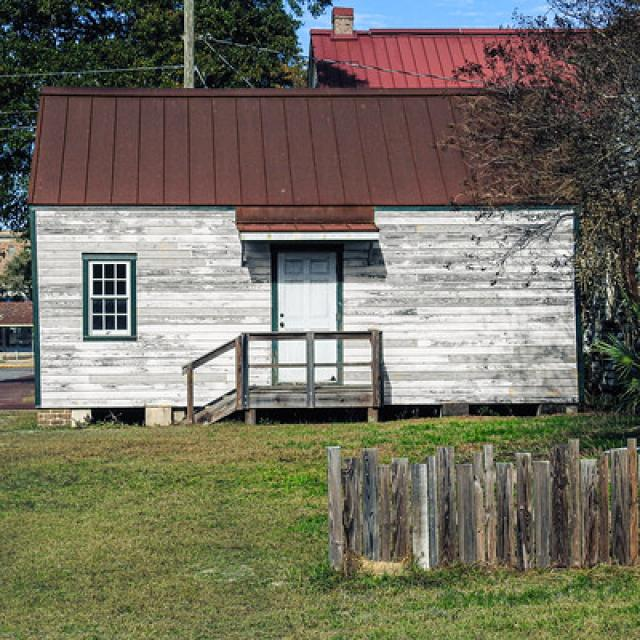Normal_building: (21, 82, 592, 420)
